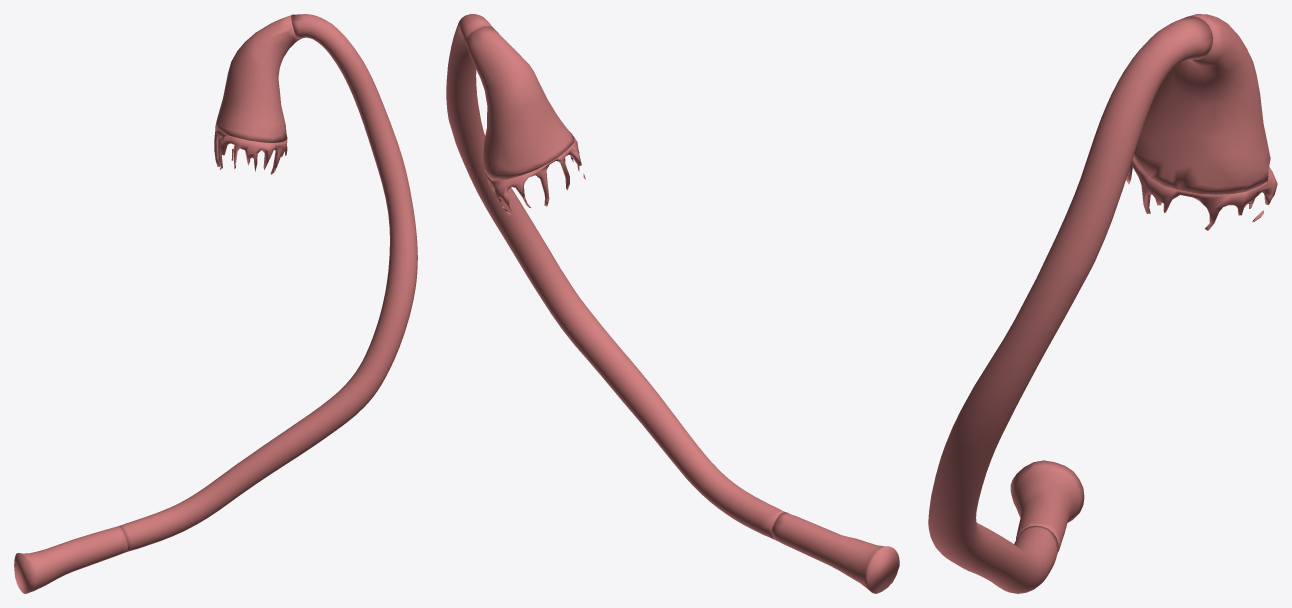
File: vh_f_fallopian_tube_l-40.glb
3 renders of one model, left to right at view 1: azimuth 30°, elevation 25°; view 2: azimuth 150°, elevation 25°; view 3: azimuth 270°, elevation 25°, orthographic. The views are drawn at different scales.
Visible parts, largest first — view 1: VH_F_ampulla_of_uterine_tube_L, VH_F_uterine_tube_infundibulum_L, VH_F_isthmus_of_fallopian_tube_L, VH_F_fibria_of_uterine_tube_L; view 2: VH_F_ampulla_of_uterine_tube_L, VH_F_uterine_tube_infundibulum_L, VH_F_isthmus_of_fallopian_tube_L, VH_F_fibria_of_uterine_tube_L; view 3: VH_F_ampulla_of_uterine_tube_L, VH_F_uterine_tube_infundibulum_L, VH_F_isthmus_of_fallopian_tube_L, VH_F_fibria_of_uterine_tube_L.
Part boxes in pixels (x1,y1,x2,y2): VH_F_ampulla_of_uterine_tube_L: (118, 14, 417, 551); VH_F_uterine_tube_infundibulum_L: (215, 15, 299, 142); VH_F_isthmus_of_fallopian_tube_L: (14, 526, 127, 593); VH_F_fibria_of_uterine_tube_L: (214, 127, 287, 174); VH_F_ampulla_of_uterine_tube_L: (446, 14, 785, 539); VH_F_uterine_tube_infundibulum_L: (465, 26, 574, 180); VH_F_isthmus_of_fallopian_tube_L: (771, 512, 899, 593); VH_F_fibria_of_uterine_tube_L: (486, 136, 585, 214); VH_F_ampulla_of_uterine_tube_L: (928, 16, 1213, 593); VH_F_uterine_tube_infundibulum_L: (1133, 14, 1270, 194); VH_F_isthmus_of_fallopian_tube_L: (1010, 460, 1084, 551); VH_F_fibria_of_uterine_tube_L: (1126, 158, 1277, 230).
Size of the model in its own units: 0.0386 by 0.0445 by 0.0186.
